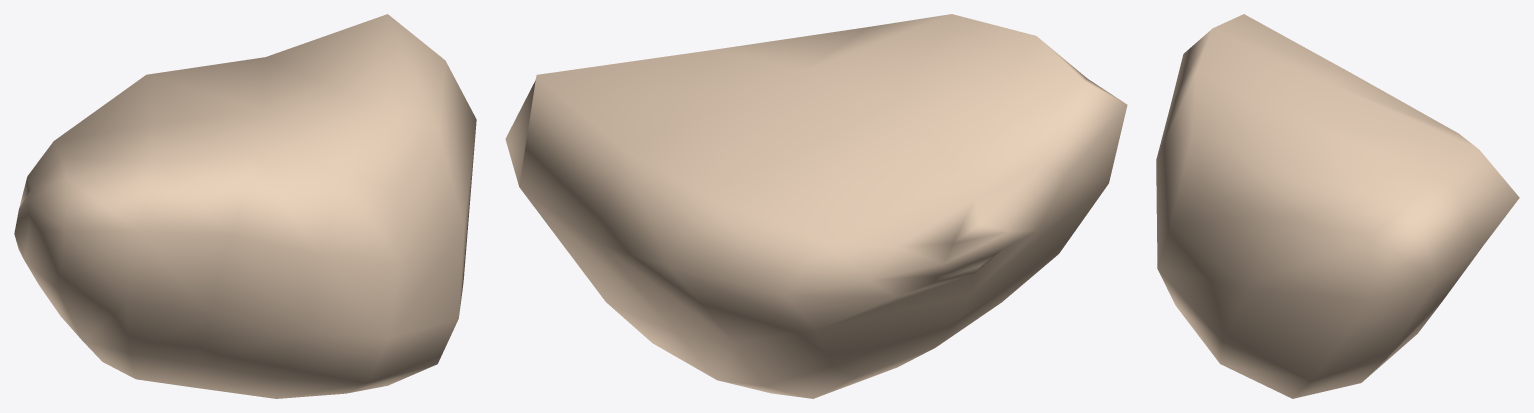
File: Island2-1-sub.fbx
3 renders of one model, left to right at view 1: azimuth 30°, elevation 25°; view 2: azimuth 150°, elevation 25°; view 3: azimuth 270°, elevation 25°, orthographic. The views are drawn at different scales.
Visible parts, largest first — view 1: pCube1.001; view 2: pCube1.001; view 3: pCube1.001.
Boxes of the visible parts, <box> form: pCube1.001: <box>14,14,476,398</box>; pCube1.001: <box>505,14,1127,398</box>; pCube1.001: <box>1156,14,1519,398</box>.
Bounding box in the file's own units: 269 × 160 × 207.
